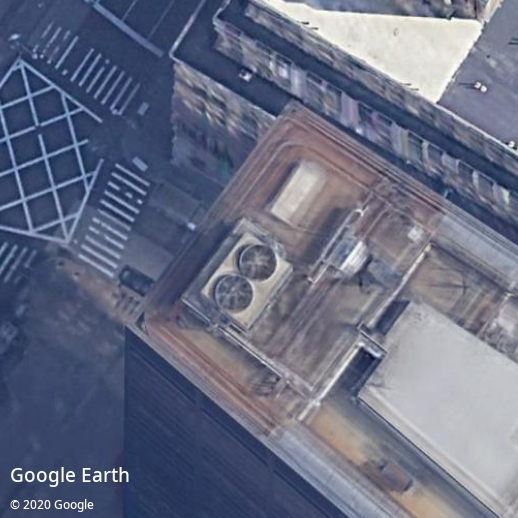Vent: (215, 274, 254, 314), (240, 244, 277, 282)
